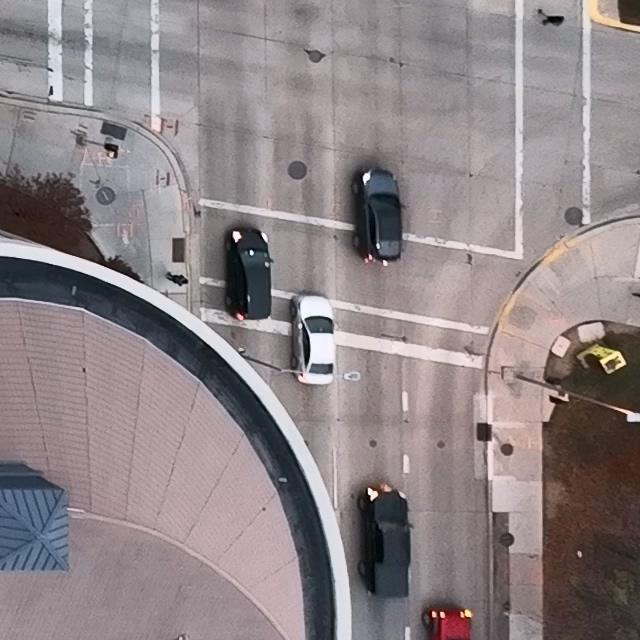car: (357, 483, 415, 599), (350, 165, 408, 267), (223, 226, 275, 321), (289, 294, 338, 385), (421, 603, 474, 640)
